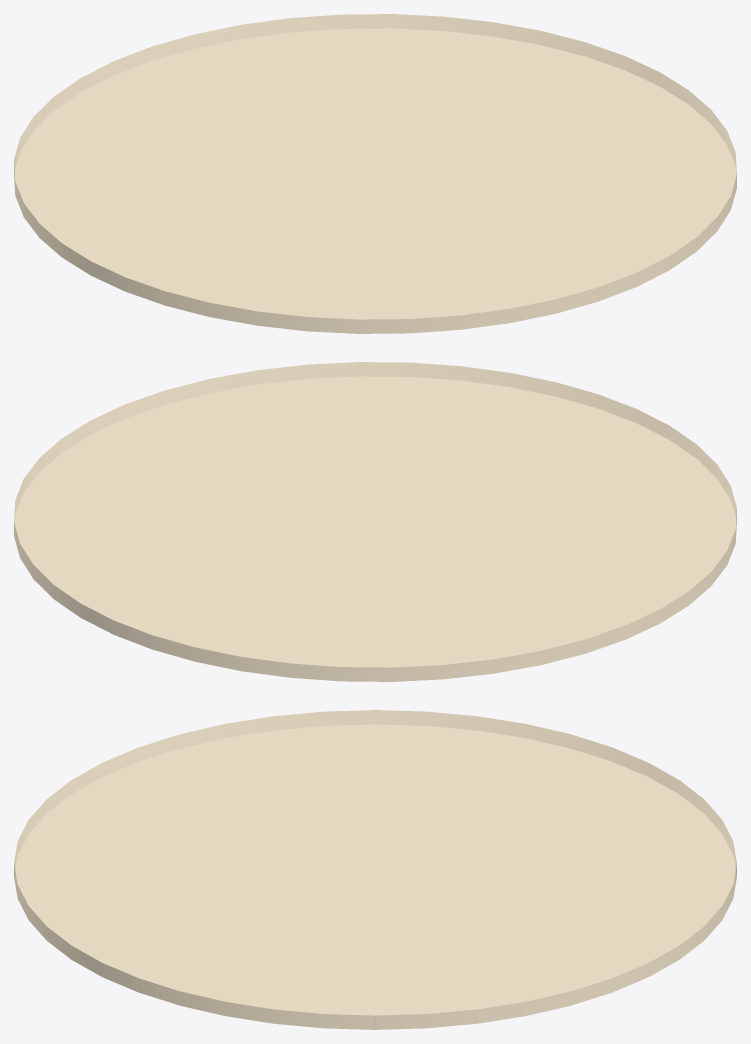
File: Ground.fbx
The picture shows the model from 3 angles, top to bottom: view 1: azimuth 30°, elevation 25°; view 2: azimuth 150°, elevation 25°; view 3: azimuth 270°, elevation 25°; orthographic projection.
Visible parts, largest first — view 1: Floor; view 2: Floor; view 3: Floor.
Part boxes in pixels (x1,y1,x2,y2): Floor: (14,14,736,333); Floor: (14,362,736,681); Floor: (14,710,736,1029).
Size of the model in its own units: 5211 by 114 by 5211.
